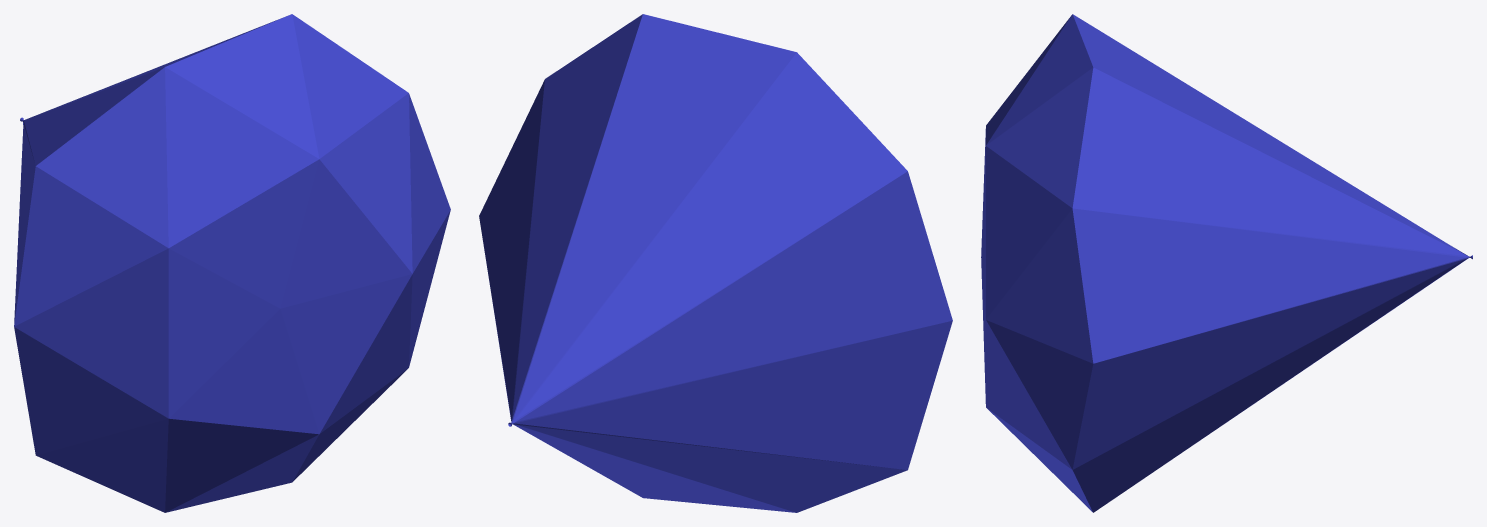
File: diamond.obj
3 renders of one model, left to right at view 1: azimuth 30°, elevation 25°; view 2: azimuth 150°, elevation 25°; view 3: azimuth 270°, elevation 25°, orthographic. The views are drawn at different scales.
Visible parts, largest first — view 1: Object.1; view 2: Object.1; view 3: Object.1.
Boxes of the visible parts, x1=… form: Object.1: x1=14, y1=14, x2=450, y2=512; Object.1: x1=479, y1=14, x2=952, y2=512; Object.1: x1=981, y1=14, x2=1472, y2=512.
Size of the model in its own units: 1 by 1 by 1.
Materials: 1 (1 with a texture image).
